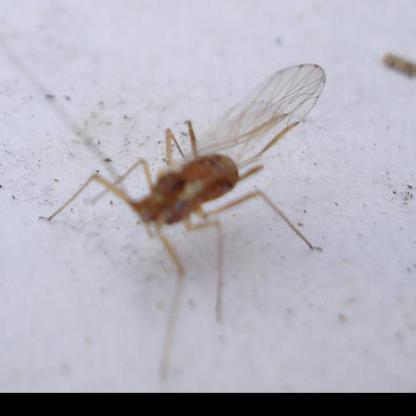aphid: (54, 25, 332, 350)
